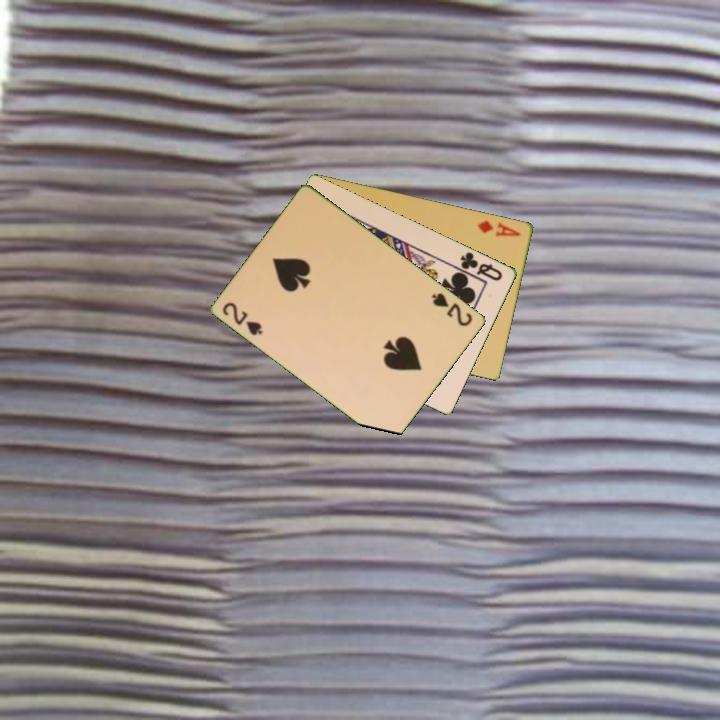2s: (219, 298, 266, 339), (429, 289, 476, 329)
Ad: (474, 217, 524, 239)
Qc: (452, 248, 506, 284)
